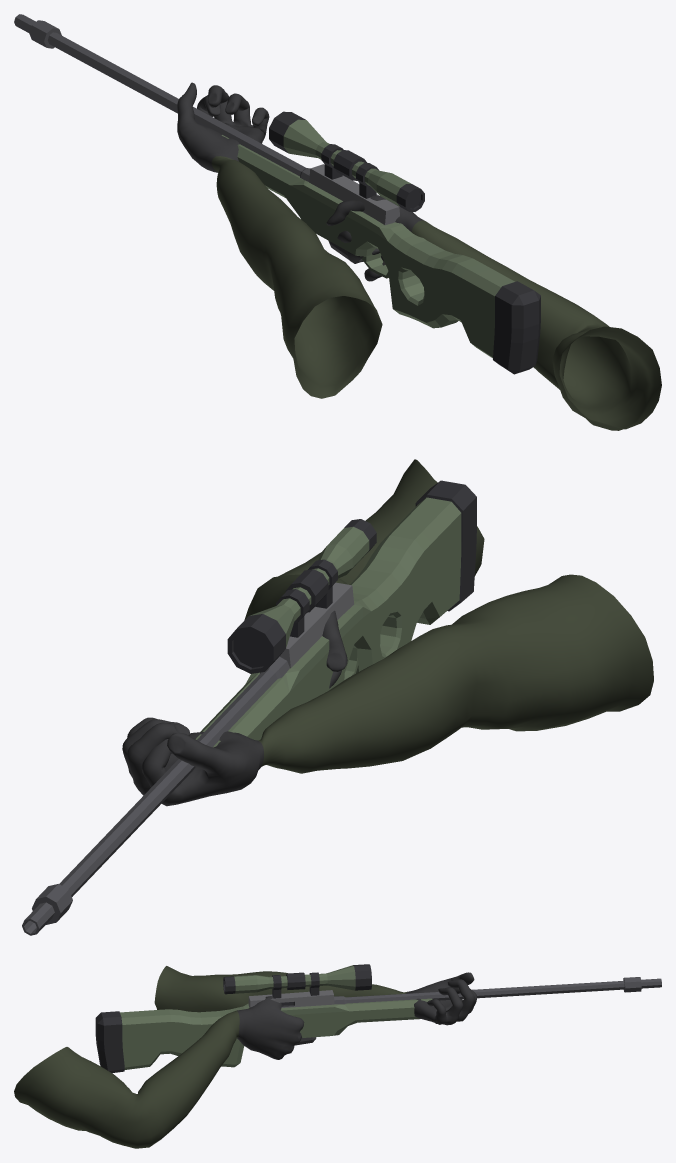
File: sniper_fp.glb
3 views of the same model, one above another, from view 1: azimuth 30°, elevation 25°; view 2: azimuth 150°, elevation 25°; view 3: azimuth 270°, elevation 25° (orthographic). The views are drawn at different scales.
Parts seen in each view (by area): view 1: Arms, Rifle.001; view 2: Arms, Rifle.001; view 3: Arms, Rifle.001.
Part boxes in pixels (x1=…): Arms: x1=177, y1=82, x2=661, y2=430; Rifle.001: x1=14, y1=14, x2=540, y2=374; Arms: x1=122, y1=459, x2=653, y2=806; Rifle.001: x1=22, y1=480, x2=476, y2=935; Arms: x1=14, y1=966, x2=477, y2=1148; Rifle.001: x1=95, y1=964, x2=661, y2=1073.
Bounding box in the file's own units: 0.4498 × 0.2764 × 1.19.
